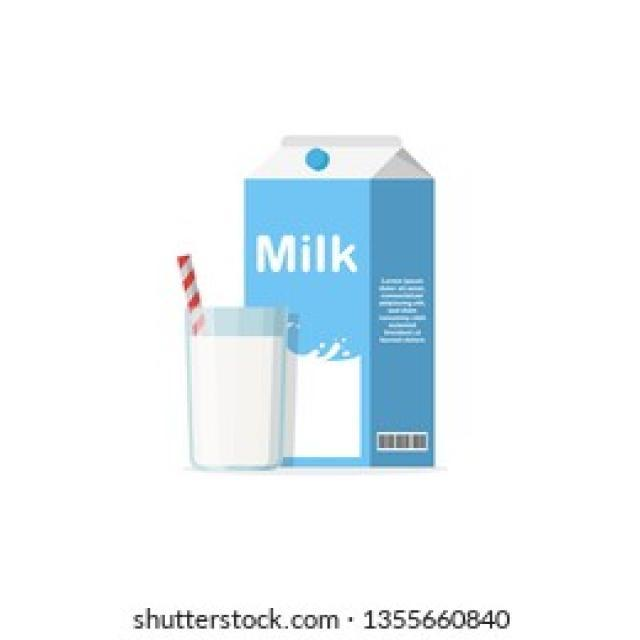Carton: (235, 117, 448, 508)
